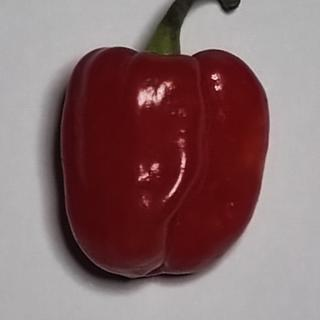Grade-A: (32, 34, 279, 288)
